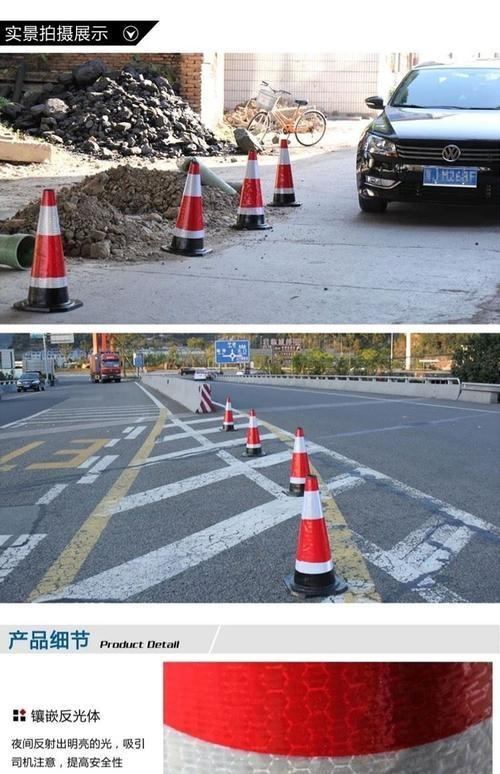cone_barrel: (18, 188, 76, 314), (286, 474, 342, 590), (163, 158, 211, 255), (231, 147, 271, 231), (268, 134, 299, 208), (284, 426, 311, 498), (241, 405, 263, 456), (219, 393, 235, 431)
